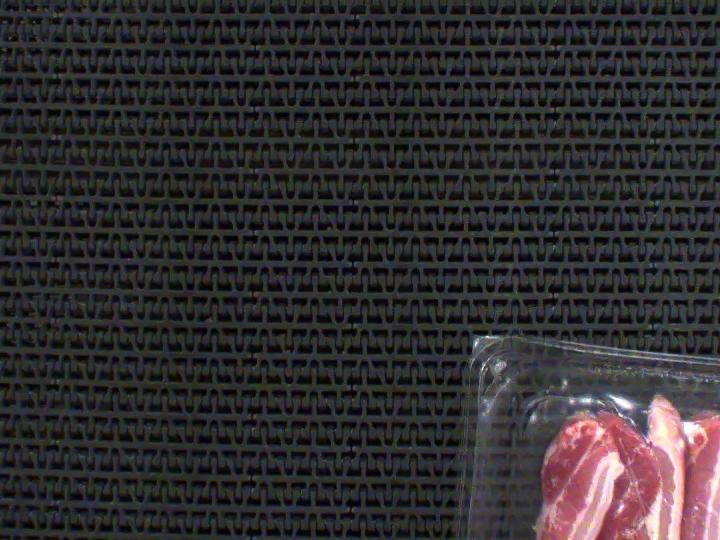unsealed: (487, 340, 720, 540)
